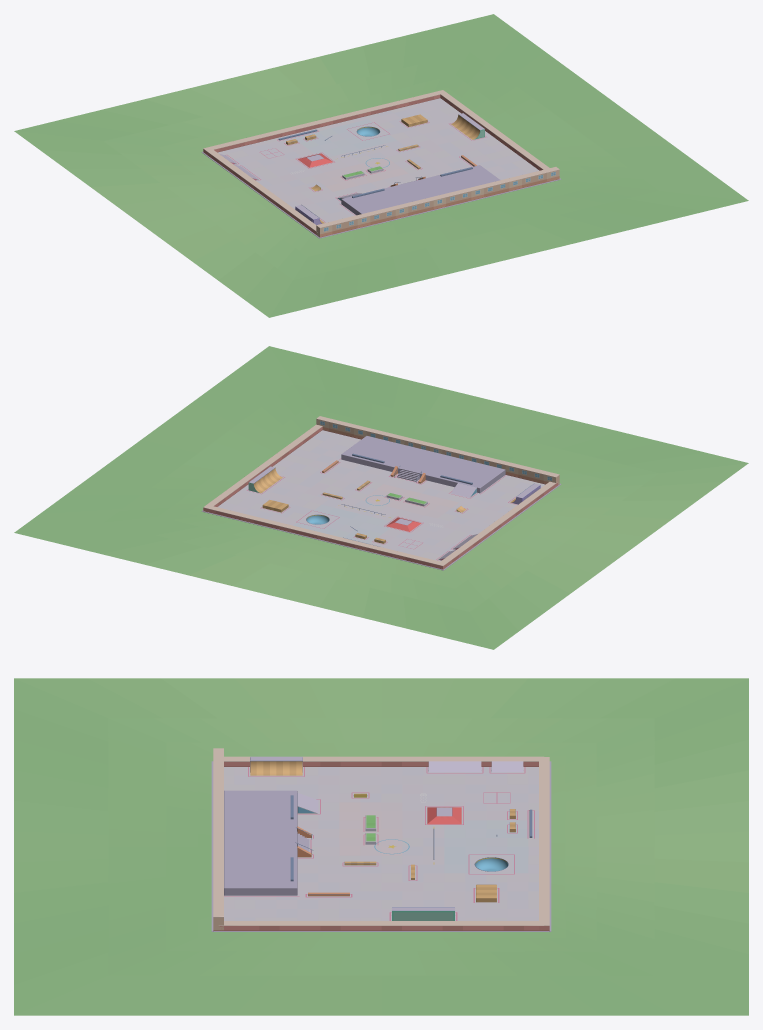
The model's file is schoolyard.glb.
3 renders of one model, top to bottom at view 1: azimuth 30°, elevation 25°; view 2: azimuth 150°, elevation 25°; view 3: azimuth 270°, elevation 25°, orthographic. The views are drawn at different scales.
Visible parts, largest first — view 1: park; view 2: park; view 3: park.
Part boxes in pixels (left/top/right/bottom): park: left=14, top=14, right=748, bottom=317; park: left=14, top=346, right=748, bottom=649; park: left=14, top=678, right=748, bottom=1015.
Size of the model in its own units: 152 by 4.8 by 140.
